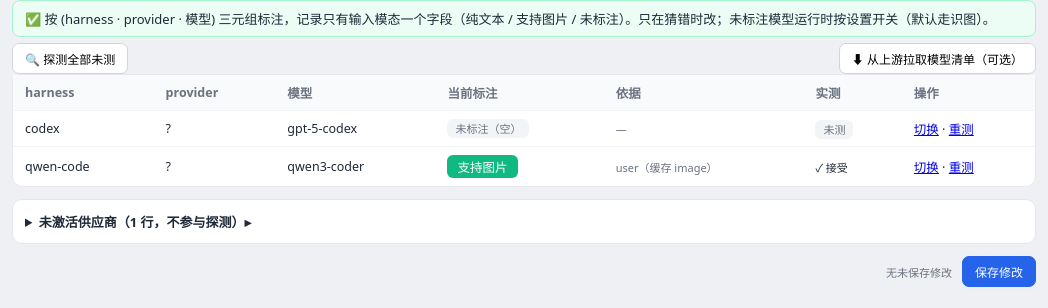
ModelsPage (G5 UI) › 切换 cycles 未标注→纯文本→图片→未标注 and tracks dirty
Check: the text "gpt-5-codex" is shown, box x1=275 y1=110 x2=435 y2=146
Click the link "切换" in the row of "gpt-5-codex": (926, 130) x1=914 y1=121 x2=939 y2=138
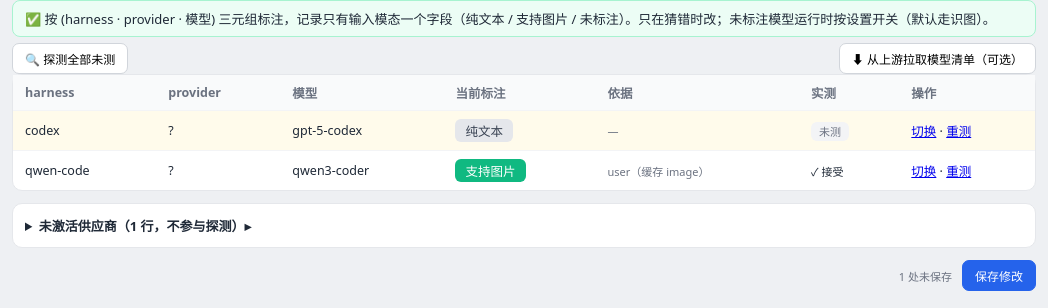
Check: the text "纯文本" is shown, box x1=456 y1=119 x2=513 y2=142
Check: the text "1 处未保存" is shown, box x1=899 y1=268 x2=952 y2=284
Click the link "切换" in the row of "gpt-5-codex": (924, 132) x1=911 y1=123 x2=936 y2=140
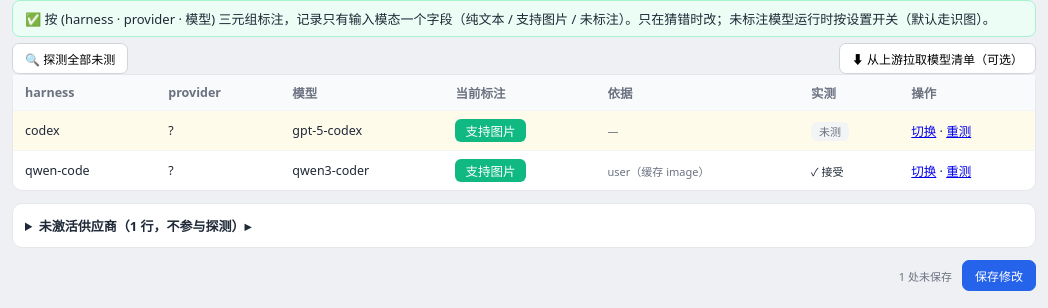
Check: the text "支持图片" is shown 2 times, box x1=456 y1=119 x2=526 y2=142; x1=456 y1=159 x2=526 y2=182
Click the link "切换" in the row of "gpt-5-codex": (924, 132) x1=911 y1=123 x2=936 y2=140
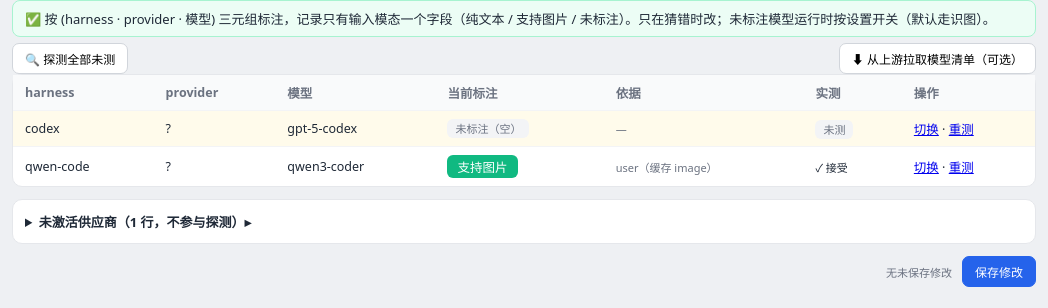
Check: the text "未标注（空）" is shown 2 times
